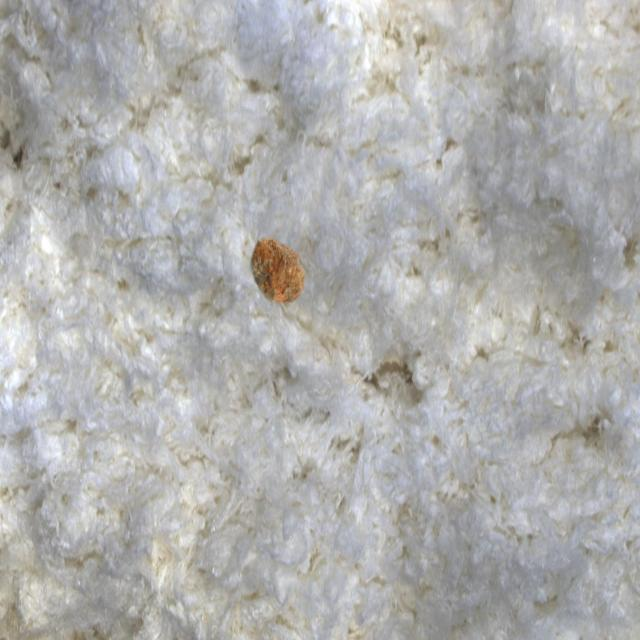dust: (228, 208, 338, 336)
